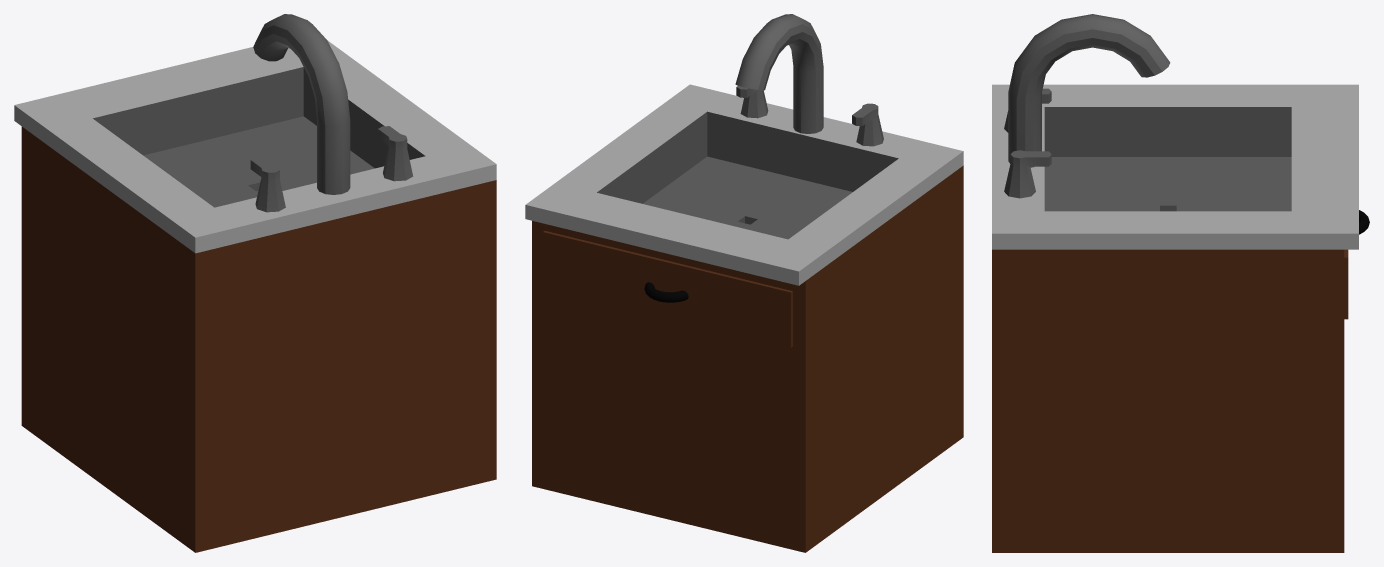
Rendered from sink.fbx.
3 renders of one model, left to right at view 1: azimuth 30°, elevation 25°; view 2: azimuth 150°, elevation 25°; view 3: azimuth 270°, elevation 25°, orthographic. The views are drawn at different scales.
Parts seen in each view (by area): view 1: Sink; view 2: Sink; view 3: Sink.
Part boxes in pixels (<box>): Sink: <box>14,14,496,552</box>; Sink: <box>525,14,963,552</box>; Sink: <box>992,14,1369,552</box>.
Size of the model in its own units: 0.5 by 0.5362 by 0.728.
